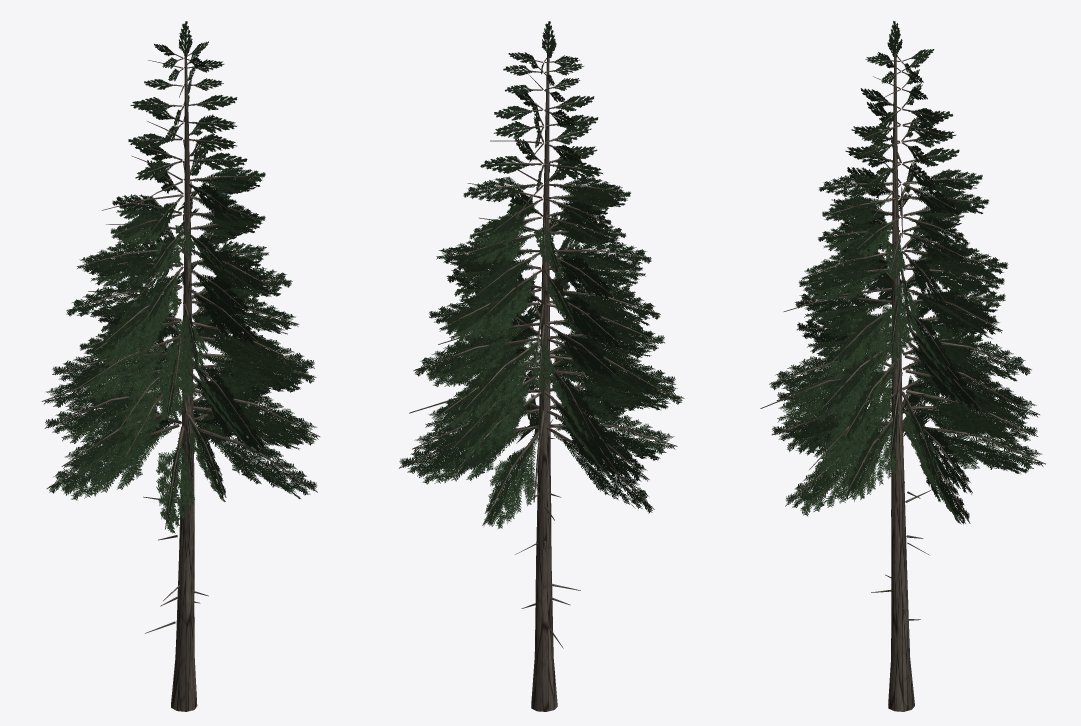
The model's file is S7U_Spruce_B.fbx.
3 views of the same model, side by side, from view 1: azimuth 30°, elevation 25°; view 2: azimuth 150°, elevation 25°; view 3: azimuth 270°, elevation 25° (orthographic).
Visible parts, largest first — view 1: S7U_Spruce_B; view 2: S7U_Spruce_B; view 3: S7U_Spruce_B.
Part boxes in pixels (x1,y1,x2,y2): S7U_Spruce_B: (41,21,320,711); S7U_Spruce_B: (399,21,684,711); S7U_Spruce_B: (760,21,1045,711).
Size of the model in its own units: 7.29 by 16.6 by 7.13.
